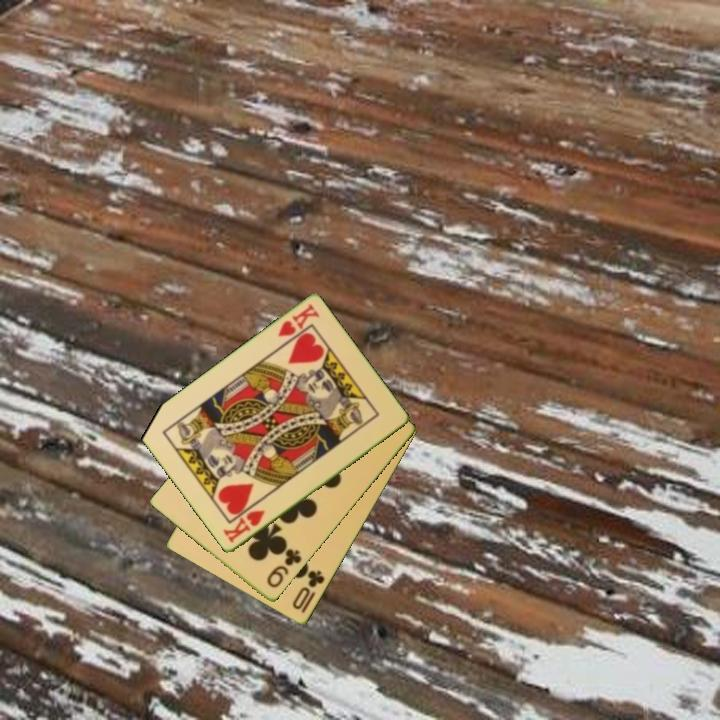10c: (289, 567, 328, 617)
9c: (263, 545, 305, 591)
Kh: (219, 506, 268, 546), (274, 300, 322, 340)
